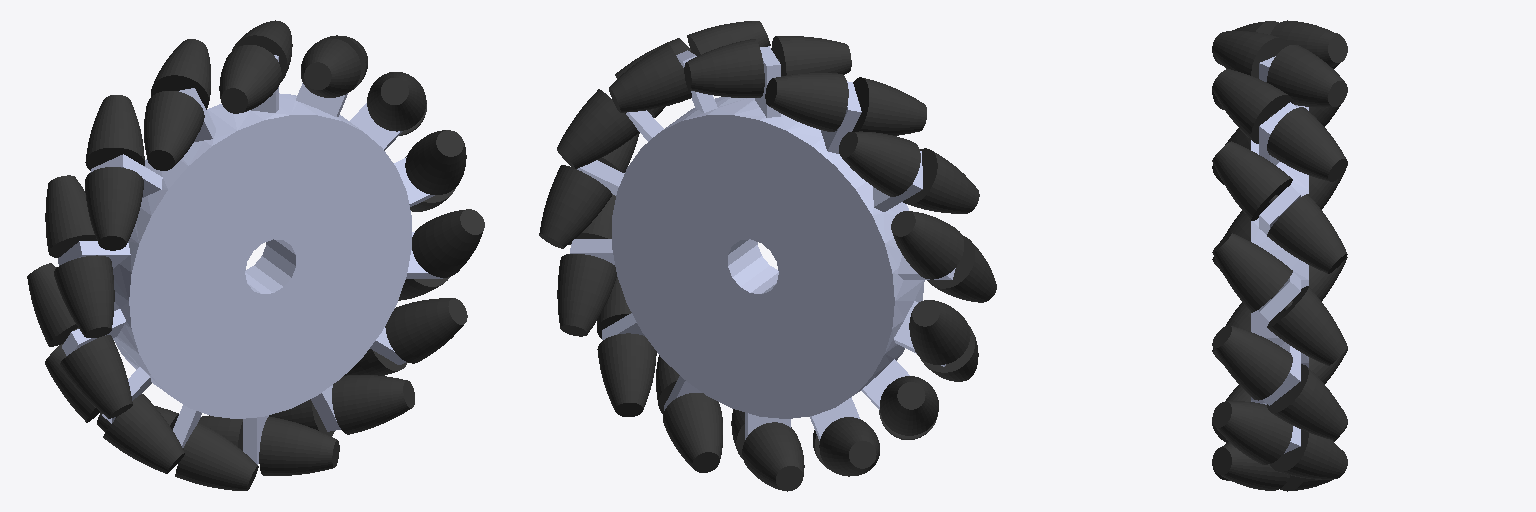
URDF robot description (left_mecanum wheel):
<?xml version="1.0" encoding="utf-8"?>
<!-- This URDF was automatically created by SolidWorks to URDF Exporter! Originally created by [author] ([email redacted]) 
     Commit Version: 1.6.0-4-g7f85cfe  Build Version: 1.6.7995.38578
     For more information, please see http://wiki.ros.org/sw_urdf_exporter -->
<robot
  name="left_mecanum wheel">
  <link
    name="base_link">
    <inertial>
      <origin
        xyz="1.38777878078145E-17 -0.0127 2.77555756156289E-17"
        rpy="0 0 0" />
      <mass
        value="0.414712198540076" />
      <inertia
        ixx="0.00062309470872441"
        ixy="4.17493744147413E-17"
        ixz="3.09365548741526E-19"
        iyy="0.00120434462423014"
        iyz="4.50487069617125E-17"
        izz="0.000623094709119957" />
    </inertial>
    <visual>
      <origin
        xyz="0 0 0"
        rpy="0 0 0" />
      <geometry>
        <mesh
          filename="package://left_mecanum wheel/meshes/base_link.STL" />
      </geometry>
      <material
        name="">
        <color
          rgba="0.792156862745098 0.819607843137255 0.933333333333333 1" />
      </material>
    </visual>
    <collision>
      <origin
        xyz="0 0 0"
        rpy="0 0 0" />
      <geometry>
        <mesh
          filename="package://left_mecanum wheel/meshes/base_link.STL" />
      </geometry>
    </collision>
  </link>
  <link
    name="LR1">
    <inertial>
      <origin
        xyz="1.38777878078145E-17 3.12250225675825E-16 0"
        rpy="0 0 0" />
      <mass
        value="0.0211185318668685" />
      <inertia
        ixx="8.0129862497126E-06"
        ixy="-8.99972506457694E-22"
        ixz="-5.52747479217106E-23"
        iyy="1.2723849343642E-06"
        iyz="-7.75129039976687E-21"
        izz="8.0129862497126E-06" />
    </inertial>
    <visual>
      <origin
        xyz="0 0 0"
        rpy="0 0 0" />
      <geometry>
        <mesh
          filename="package://left_mecanum wheel/meshes/LR1.STL" />
      </geometry>
      <material
        name="">
        <color
          rgba="0.250980392156863 0.250980392156863 0.250980392156863 1" />
      </material>
    </visual>
    <collision>
      <origin
        xyz="0 0 0"
        rpy="0 0 0" />
      <geometry>
        <mesh
          filename="package://left_mecanum wheel/meshes/LR1.STL" />
      </geometry>
    </collision>
  </link>
  <joint
    name="LR1_joint"
    type="continuous">
    <origin
      xyz="0 -0.0127000000000001 0.0889"
      rpy="0 0 -0.785398163397446" />
    <parent
      link="base_link" />
    <child
      link="LR1" />
    <axis
      xyz="1 0 0" />
  </joint>
  <link
    name="LR2">
    <inertial>
      <origin
        xyz="0 9.0205620750794E-17 0"
        rpy="0 0 0" />
      <mass
        value="0.0211185318668683" />
      <inertia
        ixx="8.01298624971099E-06"
        ixy="-1.05879118406788E-21"
        ixz="-4.85290309235864E-22"
        iyy="1.27238493436168E-06"
        iyz="-6.9052971285117E-21"
        izz="8.01298624971099E-06" />
    </inertial>
    <visual>
      <origin
        xyz="0 0 0"
        rpy="0 0 0" />
      <geometry>
        <mesh
          filename="package://left_mecanum wheel/meshes/LR2.STL" />
      </geometry>
      <material
        name="">
        <color
          rgba="0.250980392156863 0.250980392156863 0.250980392156863 1" />
      </material>
    </visual>
    <collision>
      <origin
        xyz="0 0 0"
        rpy="0 0 0" />
      <geometry>
        <mesh
          filename="package://left_mecanum wheel/meshes/LR2.STL" />
      </geometry>
    </collision>
  </link>
  <joint
    name="LR2_joint"
    type="continuous">
    <origin
      xyz="0.0385722644075509 -0.0127000000000001 0.0800961323565251"
      rpy="-0.328208742242918 0.311831301862535 -0.837446196679452" />
    <parent
      link="base_link" />
    <child
      link="LR2" />
    <axis
      xyz="1 0 0" />
  </joint>
  <link
    name="LR3">
    <inertial>
      <origin
        xyz="1.38777878078145E-17 -0.0031749999999997 1.38777878078145E-17"
        rpy="0 0 0" />
      <mass
        value="0.0211185318668683" />
      <inertia
        ixx="8.01298624971153E-06"
        ixy="4.76456032830544E-22"
        ixz="3.53262015997894E-22"
        iyy="1.27238493436286E-06"
        iyz="-8.16038231046317E-21"
        izz="8.01298624971153E-06" />
    </inertial>
    <visual>
      <origin
        xyz="0 0 0"
        rpy="0 0 0" />
      <geometry>
        <mesh
          filename="package://left_mecanum wheel/meshes/LR3.STL" />
      </geometry>
      <material
        name="">
        <color
          rgba="0.250980392156863 0.250980392156863 0.250980392156863 1" />
      </material>
    </visual>
    <collision>
      <origin
        xyz="0 0 0"
        rpy="0 0 0" />
      <geometry>
        <mesh
          filename="package://left_mecanum wheel/meshes/LR3.STL" />
      </geometry>
    </collision>
  </link>
  <joint
    name="LR3_joint"
    type="continuous">
    <origin
      xyz="0.0709045933187994 -0.0104549359697327 0.0536729816462218"
      rpy="-0.725409215322667 0.585766599163124 -1.0132837338068" />
    <parent
      link="base_link" />
    <child
      link="LR3" />
    <axis
      xyz="0 -1 0" />
  </joint>
  <link
    name="LR4">
    <inertial>
      <origin
        xyz="0 3.05311331771918E-16 -1.73472347597681E-17"
        rpy="0 0 0" />
      <mass
        value="0.0211185318668684" />
      <inertia
        ixx="8.01298624971073E-06"
        ixy="-3.70576914423756E-22"
        ixz="-3.18429425566806E-23"
        iyy="1.27238493436058E-06"
        iyz="-8.03721568348896E-21"
        izz="8.01298624971073E-06" />
    </inertial>
    <visual>
      <origin
        xyz="0 0 0"
        rpy="0 0 0" />
      <geometry>
        <mesh
          filename="package://left_mecanum wheel/meshes/LR4.STL" />
      </geometry>
      <material
        name="">
        <color
          rgba="0.250980392156863 0.250980392156863 0.250980392156863 1" />
      </material>
    </visual>
    <collision>
      <origin
        xyz="0 0 0"
        rpy="0 0 0" />
      <geometry>
        <mesh
          filename="package://left_mecanum wheel/meshes/LR4.STL" />
      </geometry>
    </collision>
  </link>
  <joint
    name="LR4_joint"
    type="continuous">
    <origin
      xyz="0.086671 -0.0127 0.019782"
      rpy="-1.2586 0.76063 -1.3518" />
    <parent
      link="base_link" />
    <child
      link="LR4" />
    <axis
      xyz="1 0 0" />
  </joint>
  <link
    name="LR5">
    <inertial>
      <origin
        xyz="1.38777878078145E-17 3.05311331771918E-16 -1.21430643318376E-17"
        rpy="0 0 0" />
      <mass
        value="0.0211185318668683" />
      <inertia
        ixx="8.01298624971052E-06"
        ixy="-1.85288457211878E-21"
        ixz="-2.80940410526063E-22"
        iyy="1.27238493436017E-06"
        iyz="-3.34552973782973E-22"
        izz="8.01298624971052E-06" />
    </inertial>
    <visual>
      <origin
        xyz="0 0 0"
        rpy="0 0 0" />
      <geometry>
        <mesh
          filename="package://left_mecanum wheel/meshes/LR5.STL" />
      </geometry>
      <material
        name="">
        <color
          rgba="0.250980392156863 0.250980392156863 0.250980392156863 1" />
      </material>
    </visual>
    <collision>
      <origin
        xyz="0 0 0"
        rpy="0 0 0" />
      <geometry>
        <mesh
          filename="package://left_mecanum wheel/meshes/LR5.STL" />
      </geometry>
    </collision>
  </link>
  <joint
    name="LR5_joint"
    type="continuous">
    <origin
      xyz="0.086671 -0.0127 -0.019782"
      rpy="-1.883 0.76063 -1.7897" />
    <parent
      link="base_link" />
    <child
      link="LR5" />
    <axis
      xyz="0 -1 0" />
  </joint>
  <link
    name="LR6">
    <inertial>
      <origin
        xyz="1.38777878078145E-17 3.12250225675825E-16 -2.16840434497101E-18"
        rpy="0 0 0" />
      <mass
        value="0.0211185318668681" />
      <inertia
        ixx="8.01298624970884E-06"
        ixy="-6.88214269644119E-22"
        ixz="4.81263155606615E-22"
        iyy="1.27238493435692E-06"
        iyz="-1.14346210049412E-21"
        izz="8.01298624970884E-06" />
    </inertial>
    <visual>
      <origin
        xyz="0 0 0"
        rpy="0 0 0" />
      <geometry>
        <mesh
          filename="package://left_mecanum wheel/meshes/LR6.STL" />
      </geometry>
      <material
        name="">
        <color
          rgba="0.250980392156863 0.250980392156863 0.250980392156863 1" />
      </material>
    </visual>
    <collision>
      <origin
        xyz="0 0 0"
        rpy="0 0 0" />
      <geometry>
        <mesh
          filename="package://left_mecanum wheel/meshes/LR6.STL" />
      </geometry>
    </collision>
  </link>
  <joint
    name="LR6_joint"
    type="continuous">
    <origin
      xyz="0.0695048187914076 -0.0127 -0.0554282433852417"
      rpy="-2.41618343826713 0.585766599163121 -2.128308919783" />
    <parent
      link="base_link" />
    <child
      link="LR6" />
    <axis
      xyz="0 -1 0" />
  </joint>
  <link
    name="LR7">
    <inertial>
      <origin
        xyz="4.16333634234434E-17 3.05311331771918E-16 -6.93889390390723E-18"
        rpy="0 0 0" />
      <mass
        value="0.0211185318668683" />
      <inertia
        ixx="8.01298624971076E-06"
        ixy="-2.11758236813575E-22"
        ixz="-9.22046779924006E-22"
        iyy="1.27238493436077E-06"
        iyz="7.23551836339118E-22"
        izz="8.01298624971076E-06" />
    </inertial>
    <visual>
      <origin
        xyz="0 0 0"
        rpy="0 0 0" />
      <geometry>
        <mesh
          filename="package://left_mecanum wheel/meshes/LR7.STL" />
      </geometry>
      <material
        name="">
        <color
          rgba="0.250980392156863 0.250980392156863 0.250980392156863 1" />
      </material>
    </visual>
    <collision>
      <origin
        xyz="0 0 0"
        rpy="0 0 0" />
      <geometry>
        <mesh
          filename="package://left_mecanum wheel/meshes/LR7.STL" />
      </geometry>
    </collision>
  </link>
  <joint
    name="LR7_joint"
    type="continuous">
    <origin
      xyz="0.0385722644075505 -0.0126999999999999 -0.0800961323565253"
      rpy="-2.81338391134688 0.311831301862531 -2.30414645691034" />
    <parent
      link="base_link" />
    <child
      link="LR7" />
    <axis
      xyz="0 -1 0" />
  </joint>
  <link
    name="LR8">
    <inertial>
      <origin
        xyz="4.64905891561784E-16 5.55111512312578E-16 0"
        rpy="0 0 0" />
      <mass
        value="0.0211185318668683" />
      <inertia
        ixx="8.01298624971062E-06"
        ixy="-2.27640104574593E-21"
        ixz="-8.97486384395018E-23"
        iyy="1.27238493436047E-06"
        iyz="3.31454395644076E-20"
        izz="8.01298624971062E-06" />
    </inertial>
    <visual>
      <origin
        xyz="0 0 0"
        rpy="0 0 0" />
      <geometry>
        <mesh
          filename="package://left_mecanum wheel/meshes/LR8.STL" />
      </geometry>
      <material
        name="">
        <color
          rgba="0.250980392156863 0.250980392156863 0.250980392156863 1" />
      </material>
    </visual>
    <collision>
      <origin
        xyz="0 0 0"
        rpy="0 0 0" />
      <geometry>
        <mesh
          filename="package://left_mecanum wheel/meshes/LR8.STL" />
      </geometry>
    </collision>
  </link>
  <joint
    name="LR8_joint"
    type="continuous">
    <origin
      xyz="0 -0.0127 -0.0889"
      rpy="-3.1416 0 -2.3562" />
    <parent
      link="base_link" />
    <child
      link="LR8" />
    <axis
      xyz="0 -1 0" />
  </joint>
  <link
    name="LR9">
    <inertial>
      <origin
        xyz="2.08166817117217E-17 2.77555756156289E-16 0"
        rpy="0 0 0" />
      <mass
        value="0.0211185318668681" />
      <inertia
        ixx="8.01298624970815E-06"
        ixy="-4.76456032830544E-22"
        ixz="2.61081487441412E-22"
        iyy="1.27238493435577E-06"
        iyz="2.02111252160471E-22"
        izz="8.01298624970815E-06" />
    </inertial>
    <visual>
      <origin
        xyz="0 0 0"
        rpy="0 0 0" />
      <geometry>
        <mesh
          filename="package://left_mecanum wheel/meshes/LR9.STL" />
      </geometry>
      <material
        name="">
        <color
          rgba="0.250980392156863 0.250980392156863 0.250980392156863 1" />
      </material>
    </visual>
    <collision>
      <origin
        xyz="0 0 0"
        rpy="0 0 0" />
      <geometry>
        <mesh
          filename="package://left_mecanum wheel/meshes/LR9.STL" />
      </geometry>
    </collision>
  </link>
  <joint
    name="LR9_joint"
    type="continuous">
    <origin
      xyz="-0.038572 -0.0127 -0.080096"
      rpy="2.8134 -0.31183 -2.3041" />
    <parent
      link="base_link" />
    <child
      link="LR9" />
    <axis
      xyz="0 -1 0" />
  </joint>
  <link
    name="LR10">
    <inertial>
      <origin
        xyz="1.38777878078145E-17 3.05311331771918E-16 1.38777878078145E-17"
        rpy="0 0 0" />
      <mass
        value="0.0211185318668682" />
      <inertia
        ixx="8.01298624970885E-06"
        ixy="-8.470329472543E-22"
        ixz="-4.10963162722584E-22"
        iyy="1.2723849343575E-06"
        iyz="5.43368867586717E-22"
        izz="8.01298624970885E-06" />
    </inertial>
    <visual>
      <origin
        xyz="0 0 0"
        rpy="0 0 0" />
      <geometry>
        <mesh
          filename="package://left_mecanum wheel/meshes/LR10.STL" />
      </geometry>
      <material
        name="">
        <color
          rgba="0.250980392156863 0.250980392156863 0.250980392156863 1" />
      </material>
    </visual>
    <collision>
      <origin
        xyz="0 0 0"
        rpy="0 0 0" />
      <geometry>
        <mesh
          filename="package://left_mecanum wheel/meshes/LR10.STL" />
      </geometry>
    </collision>
  </link>
  <joint
    name="LR10_joint"
    type="continuous">
    <origin
      xyz="-0.069505 -0.0127 -0.055428"
      rpy="2.4162 -0.58577 -2.1283" />
    <parent
      link="base_link" />
    <child
      link="LR10" />
    <axis
      xyz="0 -1 0" />
  </joint>
  <link
    name="LR11">
    <inertial>
      <origin
        xyz="6.93889390390723E-18 3.05311331771918E-16 -5.55111512312578E-17"
        rpy="0 0 0" />
      <mass
        value="0.0211185318668685" />
      <inertia
        ixx="8.01298624971241E-06"
        ixy="-1.42936809849163E-21"
        ixz="5.10038793057547E-22"
        iyy="1.27238493436383E-06"
        iyz="-1.38979020360329E-22"
        izz="8.01298624971241E-06" />
    </inertial>
    <visual>
      <origin
        xyz="0 0 0"
        rpy="0 0 0" />
      <geometry>
        <mesh
          filename="package://left_mecanum wheel/meshes/LR11.STL" />
      </geometry>
      <material
        name="">
        <color
          rgba="0.250980392156863 0.250980392156863 0.250980392156863 1" />
      </material>
    </visual>
    <collision>
      <origin
        xyz="0 0 0"
        rpy="0 0 0" />
      <geometry>
        <mesh
          filename="package://left_mecanum wheel/meshes/LR11.STL" />
      </geometry>
    </collision>
  </link>
  <joint
    name="LR11_joint"
    type="continuous">
    <origin
      xyz="-0.086671 -0.0127 -0.019782"
      rpy="1.883 -0.76063 -1.7897" />
    <parent
      link="base_link" />
    <child
      link="LR11" />
    <axis
      xyz="0 -1 0" />
  </joint>
  <link
    name="LR12">
    <inertial>
      <origin
        xyz="3.46944695195361E-18 1.11022302462516E-16 2.77555756156289E-17"
        rpy="0 0 0" />
      <mass
        value="0.0211185318668681" />
      <inertia
        ixx="8.01298624970893E-06"
        ixy="-9.52912065661088E-22"
        ixz="2.54715969545533E-23"
        iyy="1.27238493435722E-06"
        iyz="-2.57039563327671E-22"
        izz="8.01298624970893E-06" />
    </inertial>
    <visual>
      <origin
        xyz="0 0 0"
        rpy="0 0 0" />
      <geometry>
        <mesh
          filename="package://left_mecanum wheel/meshes/LR12.STL" />
      </geometry>
      <material
        name="">
        <color
          rgba="0.250980392156863 0.250980392156863 0.250980392156863 1" />
      </material>
    </visual>
    <collision>
      <origin
        xyz="0 0 0"
        rpy="0 0 0" />
      <geometry>
        <mesh
          filename="package://left_mecanum wheel/meshes/LR12.STL" />
      </geometry>
    </collision>
  </link>
  <joint
    name="LR12_joint"
    type="continuous">
    <origin
      xyz="-0.086671 -0.0127 0.019782"
      rpy="1.2586 -0.76063 -1.3518" />
    <parent
      link="base_link" />
    <child
      link="LR12" />
    <axis
      xyz="0 -1 0" />
  </joint>
  <link
    name="LR13">
    <inertial>
      <origin
        xyz="6.93889390390723E-18 2.91433543964104E-16 0"
        rpy="0 0 0" />
      <mass
        value="0.021118531866868" />
      <inertia
        ixx="8.01298624970742E-06"
        ixy="2.11758236813575E-22"
        ixz="4.11917993929767E-23"
        iyy="1.2723849343543E-06"
        iyz="-4.08509582593034E-23"
        izz="8.01298624970742E-06" />
    </inertial>
    <visual>
      <origin
        xyz="0 0 0"
        rpy="0 0 0" />
      <geometry>
        <mesh
          filename="package://left_mecanum wheel/meshes/LR13.STL" />
      </geometry>
      <material
        name="">
        <color
          rgba="0.250980392156863 0.250980392156863 0.250980392156863 1" />
      </material>
    </visual>
    <collision>
      <origin
        xyz="0 0 0"
        rpy="0 0 0" />
      <geometry>
        <mesh
          filename="package://left_mecanum wheel/meshes/LR13.STL" />
      </geometry>
    </collision>
  </link>
  <joint
    name="LR13_joint"
    type="continuous">
    <origin
      xyz="-0.069505 -0.0127 0.055428"
      rpy="0.72541 -0.58577 -1.0133" />
    <parent
      link="base_link" />
    <child
      link="LR13" />
    <axis
      xyz="0 -1 0" />
  </joint>
  <link
    name="LR14">
    <inertial>
      <origin
        xyz="4.16333634234434E-17 3.05311331771918E-16 2.77555756156289E-17"
        rpy="0 0 0" />
      <mass
        value="0.0211185318668684" />
      <inertia
        ixx="8.01298624971243E-06"
        ixy="-1.6940658945086E-21"
        ixz="2.14852133317146E-22"
        iyy="1.272384934364E-06"
        iyz="-8.89575882309748E-22"
        izz="8.01298624971243E-06" />
    </inertial>
    <visual>
      <origin
        xyz="0 0 0"
        rpy="0 0 0" />
      <geometry>
        <mesh
          filename="package://left_mecanum wheel/meshes/LR14.STL" />
      </geometry>
      <material
        name="">
        <color
          rgba="0.250980392156863 0.250980392156863 0.250980392156863 1" />
      </material>
    </visual>
    <collision>
      <origin
        xyz="0 0 0"
        rpy="0 0 0" />
      <geometry>
        <mesh
          filename="package://left_mecanum wheel/meshes/LR14.STL" />
      </geometry>
    </collision>
  </link>
  <joint
    name="LR14_joint"
    type="continuous">
    <origin
      xyz="-0.0385722644075499 -0.0127000000000001 0.0800961323565255"
      rpy="0.328208742242909 -0.311831301862526 -0.837446196679449" />
    <parent
      link="base_link" />
    <child
      link="LR14" />
    <axis
      xyz="0 -1 0" />
  </joint>
</robot>

--- Facts derived from the render (not from the file) ---
The picture shows the robot from 3 angles, left to right: view 1: azimuth 30°, elevation 25°; view 2: azimuth 150°, elevation 25°; view 3: azimuth 270°, elevation 25°; orthographic projection.
Robot: left_mecanum wheel — 15 links, 14 joints (14 continuous); root link base_link; default pose: every joint at zero.
Visible links, largest first — view 1: base_link, LR13, LR12, LR14, LR11, LR10, LR1, LR7, LR6, LR8, LR5, LR9 (+3 smaller); view 2: base_link, LR14, LR13, LR1, LR12, LR2, LR6, LR5, LR7, LR4, LR11, LR3 (+3 smaller); view 3: LR3, LR4, LR5, LR2, LR6, base_link, LR1, LR7, LR14, LR10, LR11, LR9 (+1 smaller).
Boxes of the visible links, x1,y1,x2,y2 form: base_link: (58, 55, 442, 464); LR13: (85, 95, 144, 250); LR12: (45, 175, 114, 337); LR14: (144, 39, 210, 170); LR11: (27, 263, 132, 418); LR10: (45, 343, 184, 473); LR1: (219, 20, 292, 113); LR7: (269, 375, 414, 436); LR6: (344, 298, 467, 375); LR8: (198, 415, 339, 475); LR5: (398, 209, 484, 300); LR9: (97, 406, 258, 490); base_link: (570, 46, 955, 440); LR14: (765, 73, 926, 135); LR13: (839, 131, 979, 213); LR1: (684, 36, 851, 97); LR12: (891, 211, 996, 302); LR2: (609, 21, 770, 112); LR6: (597, 277, 656, 416); LR5: (557, 194, 616, 336); LR7: (656, 355, 722, 472); LR4: (539, 131, 639, 248); LR11: (909, 300, 978, 381); LR3: (557, 38, 691, 168); LR3: (1212, 141, 1347, 273); LR4: (1212, 233, 1347, 365); LR5: (1212, 325, 1347, 439); LR2: (1212, 69, 1347, 181); LR6: (1212, 401, 1347, 479); base_link: (1251, 56, 1308, 453); LR1: (1212, 31, 1347, 107); LR7: (1212, 443, 1347, 491); LR14: (1212, 20, 1347, 67); LR10: (1212, 257, 1347, 363); LR11: (1212, 165, 1347, 271); LR9: (1212, 347, 1347, 442).
Bounding box of the posed robot: 0.201 × 0.0584 × 0.2032 m (x, y, z).
15 mesh visuals loaded from 15 distinct referenced files (15 binary STL).